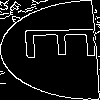E: (24, 25, 100, 60)
